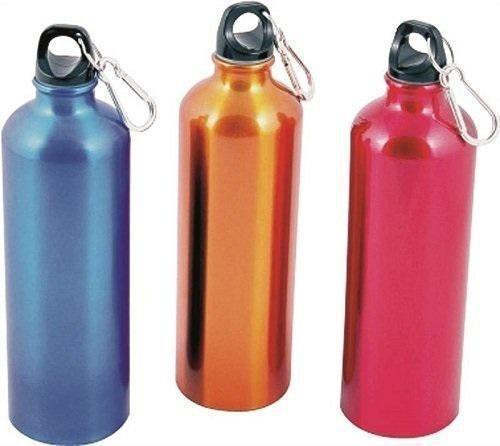gym bottle: (337, 20, 488, 439), (1, 23, 136, 445), (174, 0, 307, 414)
